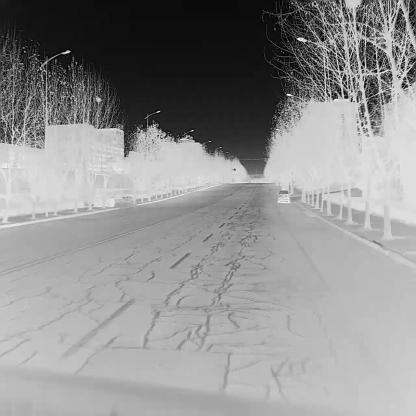car: (276, 189, 290, 203)
